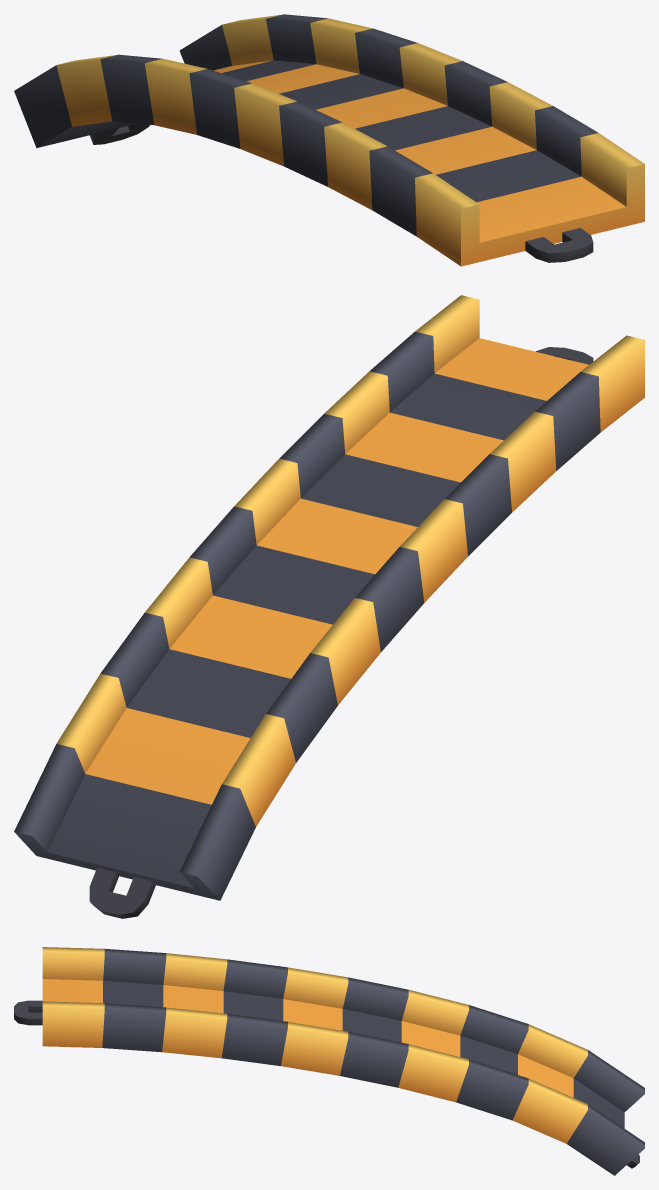
The model's file is track-striped-narrow-straight-hill-end.fbx.
3 views of the same model, one above another, from view 1: azimuth 30°, elevation 25°; view 2: azimuth 150°, elevation 25°; view 3: azimuth 270°, elevation 25° (orthographic). The views are drawn at different scales.
Parts seen in each view (by area): view 1: track-striped-narrow-straight-hill-end; view 2: track-striped-narrow-straight-hill-end; view 3: track-striped-narrow-straight-hill-end.
Part boxes in pixels (x1,y1,x2,y2): track-striped-narrow-straight-hill-end: (14, 14, 644, 266); track-striped-narrow-straight-hill-end: (14, 295, 644, 918); track-striped-narrow-straight-hill-end: (14, 947, 644, 1175).
Bounding box in the file's own units: 100 × 144 × 441.
